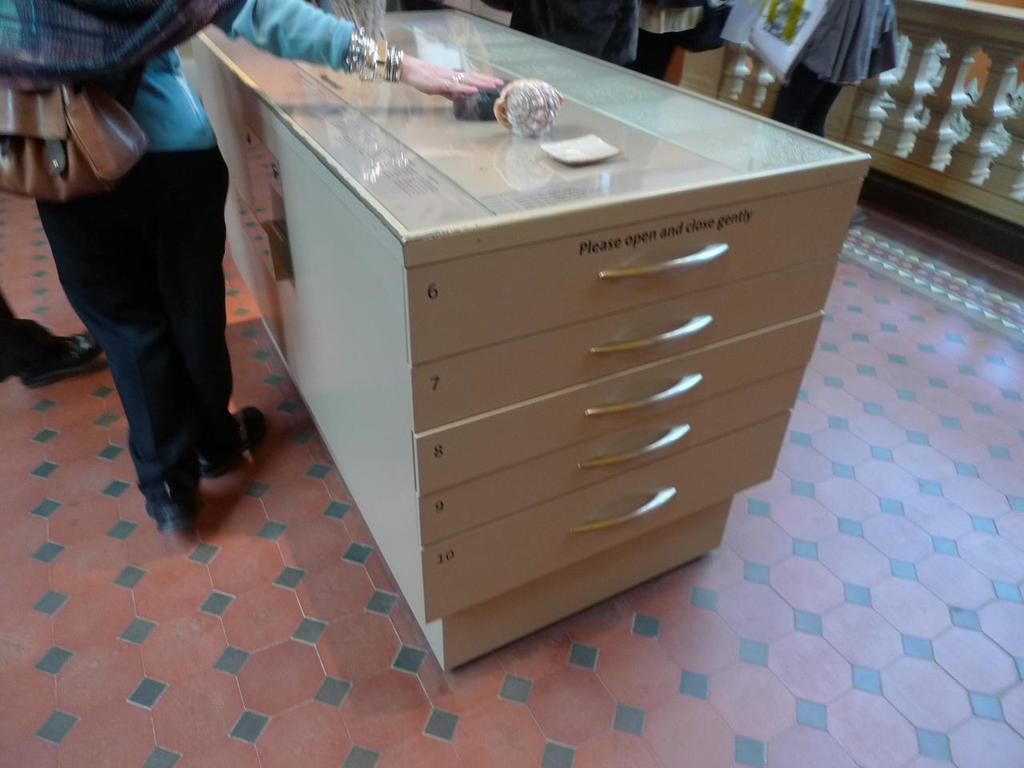cabinet_door: (439, 194, 817, 280), (466, 353, 772, 426), (468, 294, 799, 356), (474, 488, 766, 552), (476, 436, 786, 486)
handle: (596, 244, 734, 280), (572, 429, 694, 465), (564, 493, 679, 530), (584, 323, 716, 351), (578, 385, 700, 413)
